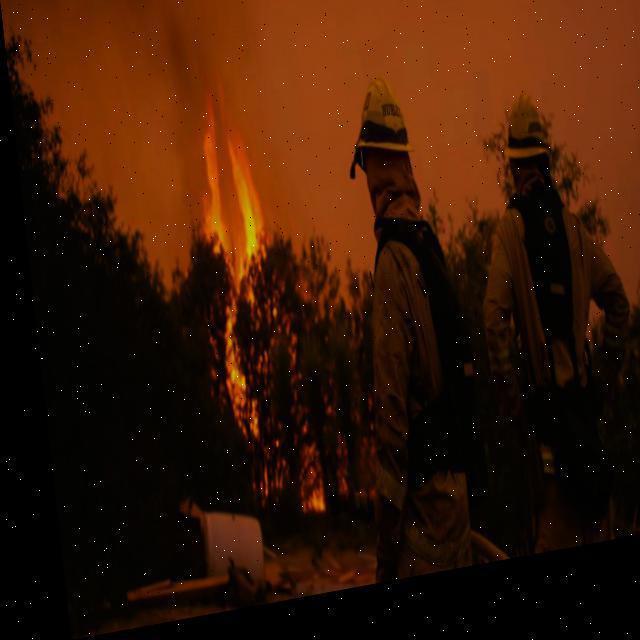Fire: (171, 71, 323, 545)
